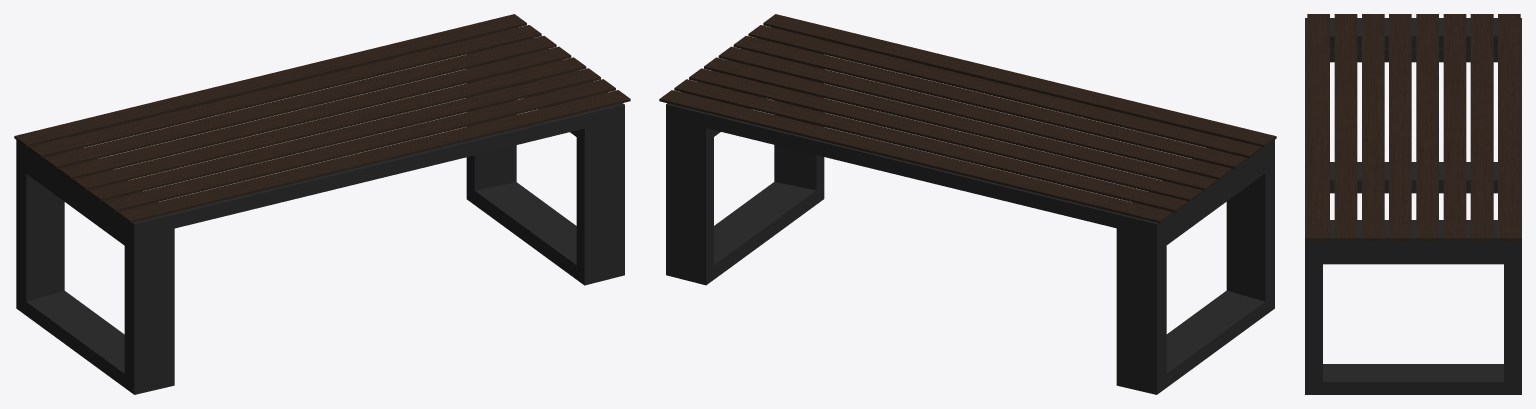
File: bench.glb
The picture shows the model from 3 angles, left to right: view 1: azimuth 30°, elevation 25°; view 2: azimuth 150°, elevation 25°; view 3: azimuth 270°, elevation 25°; orthographic projection. The views are drawn at different scales.
Visible parts, largest first — view 1: Cube.004; view 2: Cube.004; view 3: Cube.004.
Boxes of the visible parts, <box> form: Cube.004: <box>14,14,630,394</box>; Cube.004: <box>659,14,1276,394</box>; Cube.004: <box>1305,14,1521,394</box>.
Bounding box in the file's own units: 1.22 × 0.4072 × 0.5.
2 materials, 1 textured.
